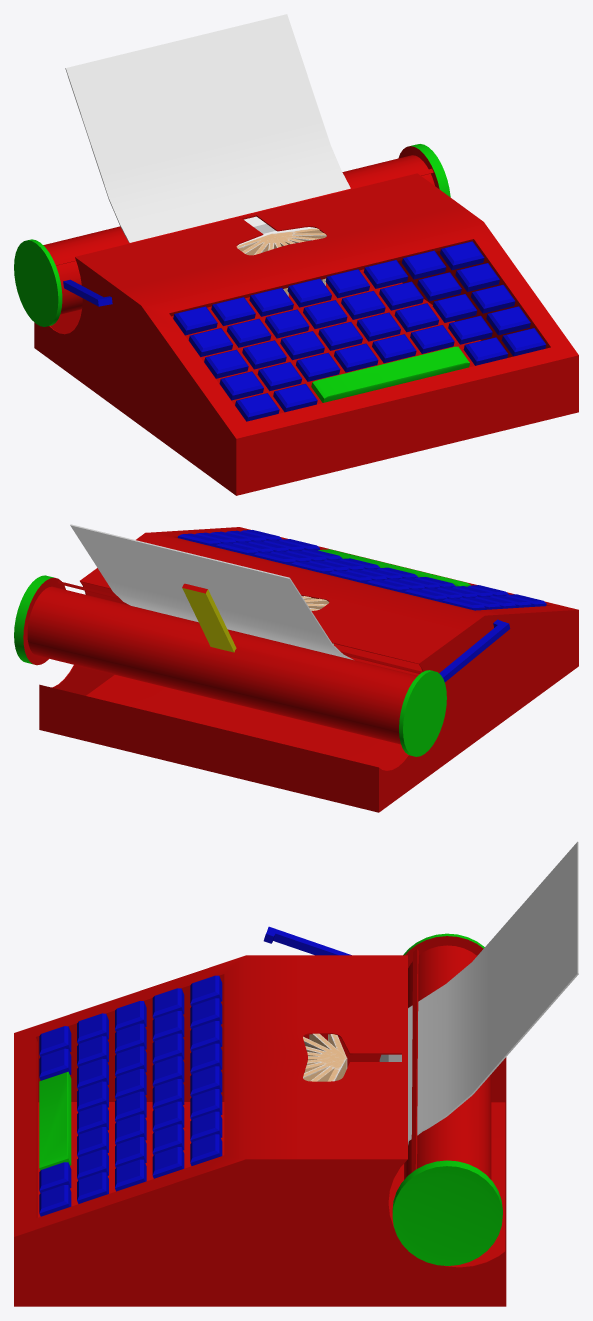
File: TypeWriter2.fbx
The picture shows the model from 3 angles, top to bottom: view 1: azimuth 30°, elevation 25°; view 2: azimuth 150°, elevation 25°; view 3: azimuth 270°, elevation 25°; orthographic projection. The views are drawn at different scales.
Visible parts, largest first — view 1: Cube, Plane, Cube.001, Cube.003; view 2: Cube, Cube.001, Plane; view 3: Cube, Plane, Cube.001, Cube.003.
Boxes of the visible parts, box(x1,y1,x2,y2) form: Cube: box(34, 173, 578, 495); Plane: box(65, 14, 350, 245); Cube.001: box(14, 144, 450, 326); Cube.003: box(236, 228, 326, 296); Cube: box(39, 527, 578, 812); Cube.001: box(14, 575, 510, 756); Plane: box(70, 524, 353, 659); Cube: box(14, 955, 506, 1306); Plane: box(379, 841, 578, 1144); Cube.001: box(263, 926, 502, 1265); Cube.003: box(303, 1033, 347, 1081).
Size of the model in its own units: 36.48 by 36.24 by 21.04.
